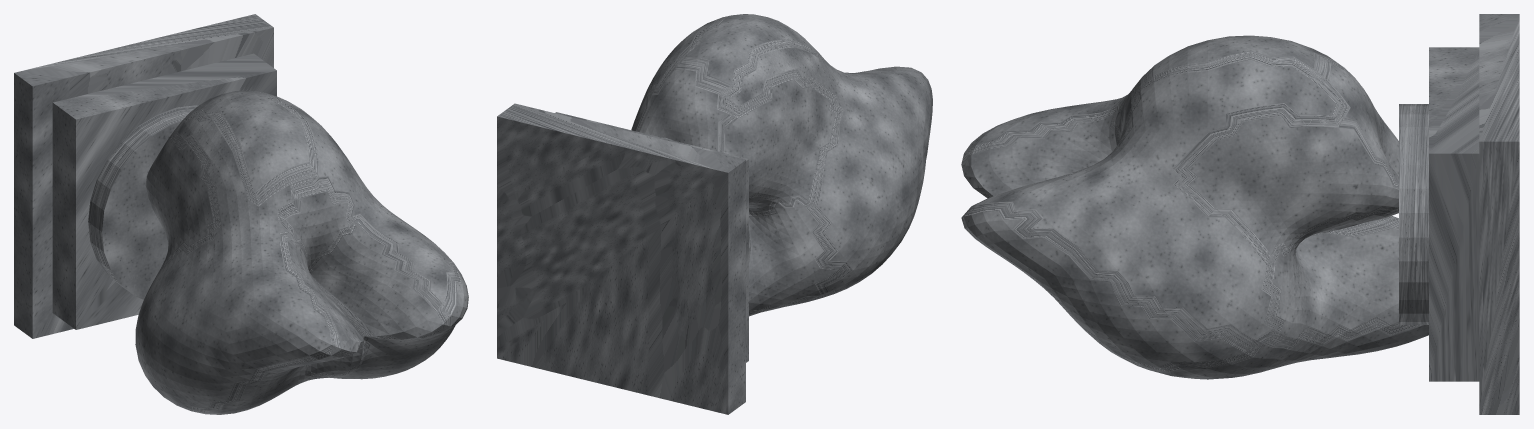
File: granite_sculpture.glb
3 renders of one model, left to right at view 1: azimuth 30°, elevation 25°; view 2: azimuth 150°, elevation 25°; view 3: azimuth 270°, elevation 25°, orthographic. The views are drawn at different scales.
Visible parts, largest first — view 1: geometry_0; view 2: geometry_0; view 3: geometry_0.
Part boxes in pixels (bbox=[...]): geometry_0: bbox=[14, 14, 468, 414]; geometry_0: bbox=[497, 14, 932, 414]; geometry_0: bbox=[961, 14, 1519, 414].
Bounding box in the file's own units: 0.6219 × 0.6102 × 1.
1 material, 1 textured.
